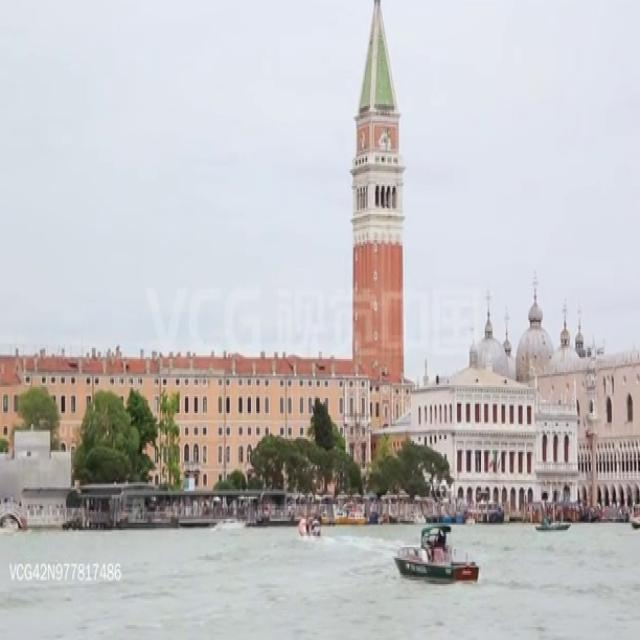houseboat: (392, 518, 479, 582), (298, 504, 323, 541), (536, 516, 574, 535), (628, 501, 640, 532)
